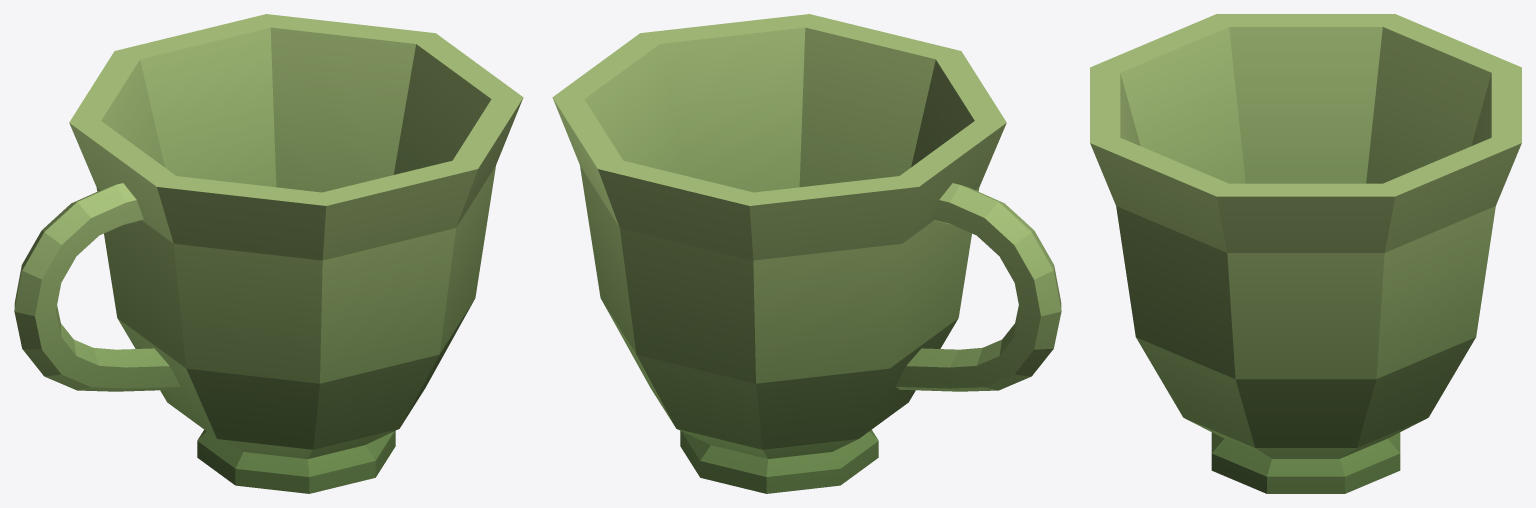
Rendered from Cup1_C4.fbx.
3 views of the same model, side by side, from view 1: azimuth 30°, elevation 25°; view 2: azimuth 150°, elevation 25°; view 3: azimuth 270°, elevation 25° (orthographic).
Parts seen in each view (by area): view 1: Cup1_C4; view 2: Cup1_C4; view 3: Cup1_C4.
Part boxes in pixels (box(x1,y1,x2,y2)): Cup1_C4: box(14, 14, 523, 493); Cup1_C4: box(552, 14, 1061, 493); Cup1_C4: box(1090, 14, 1521, 493).
Size of the model in its own units: 14.44 by 10.14 by 11.38.
